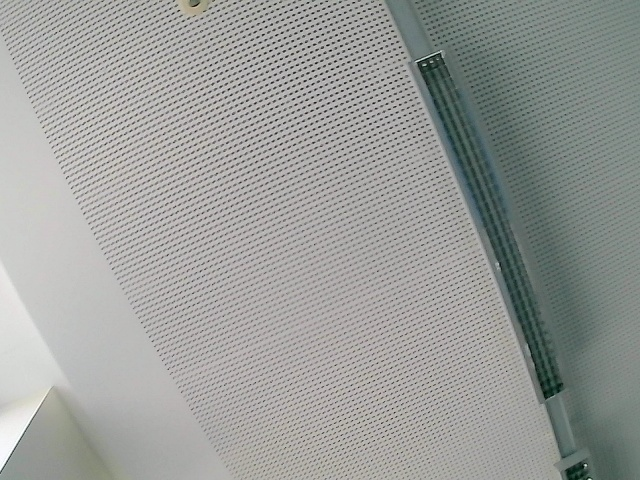no_gesture: (2, 1, 573, 478)
